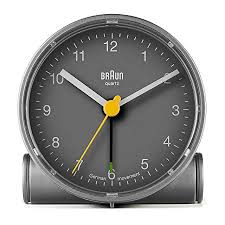alarm_clock: (20, 15, 205, 205)
